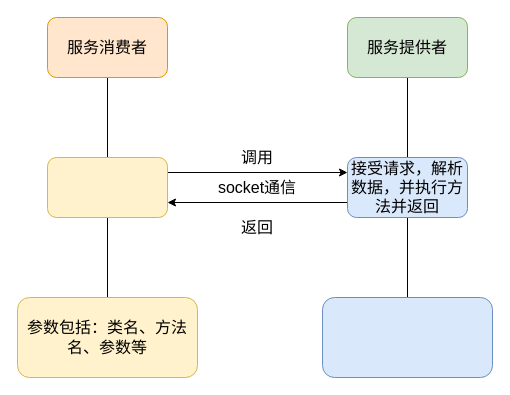
This 510x395 diagram has some shape labels left out. Here are the shapes that lost their labels. From the top down, the centre of each, then its label:
the point at 107,187: 组装请求参数
the point at 407,337: 解析数据：类名、方法名、参数等，通过反射调用
